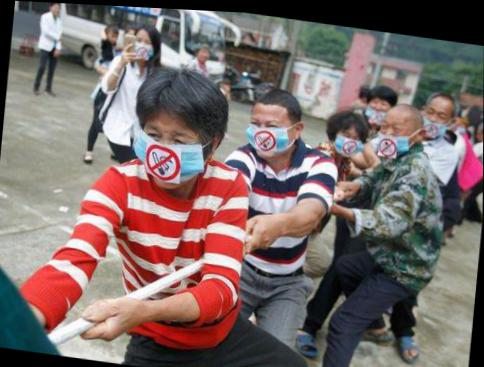OK: (333, 122, 364, 154), (132, 32, 157, 59)
WRONG: (135, 114, 213, 195), (250, 111, 298, 161), (379, 116, 418, 155), (421, 103, 453, 136), (365, 93, 393, 120)
